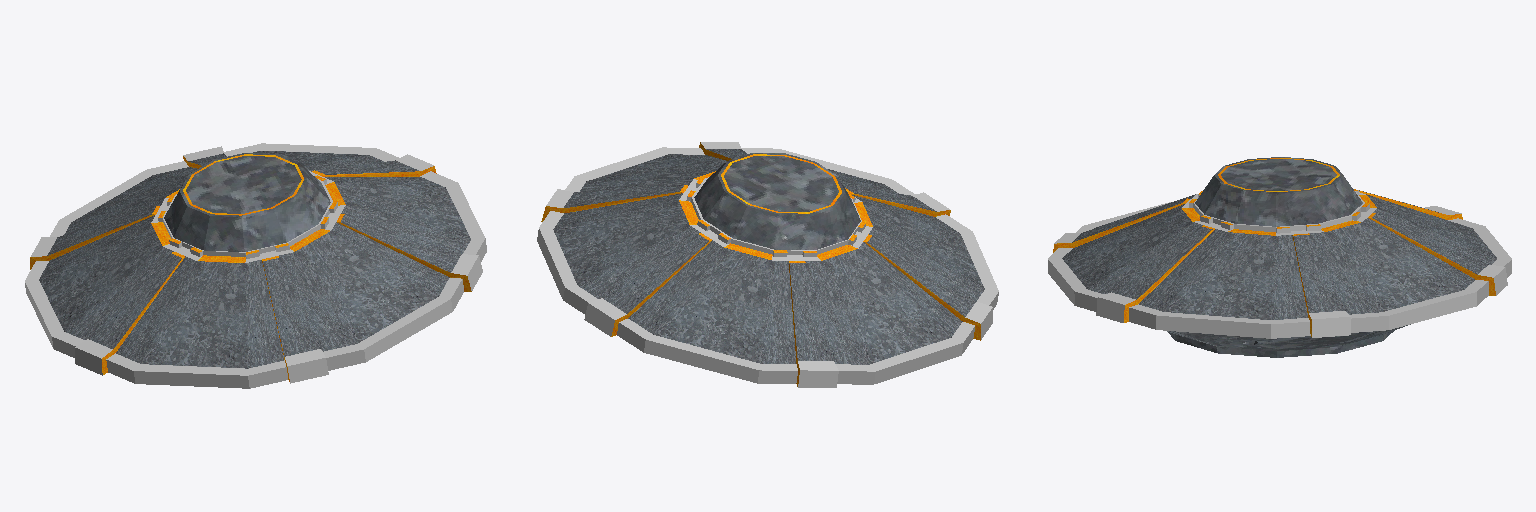
3 renders of one model, left to right at view 1: azimuth 30°, elevation 25°; view 2: azimuth 150°, elevation 25°; view 3: azimuth 270°, elevation 25°, orthographic.
Visible parts, largest first — view 1: ufo_Sphere.002; view 2: ufo_Sphere.002; view 3: ufo_Sphere.002.
Part boxes in pixels (bbox=[...]): ufo_Sphere.002: bbox=[25, 143, 486, 388]; ufo_Sphere.002: bbox=[537, 142, 998, 387]; ufo_Sphere.002: bbox=[1048, 157, 1511, 357].
Size of the model in its own units: 1.99 by 0.7923 by 2.
Materials: 3 (2 with a texture image).